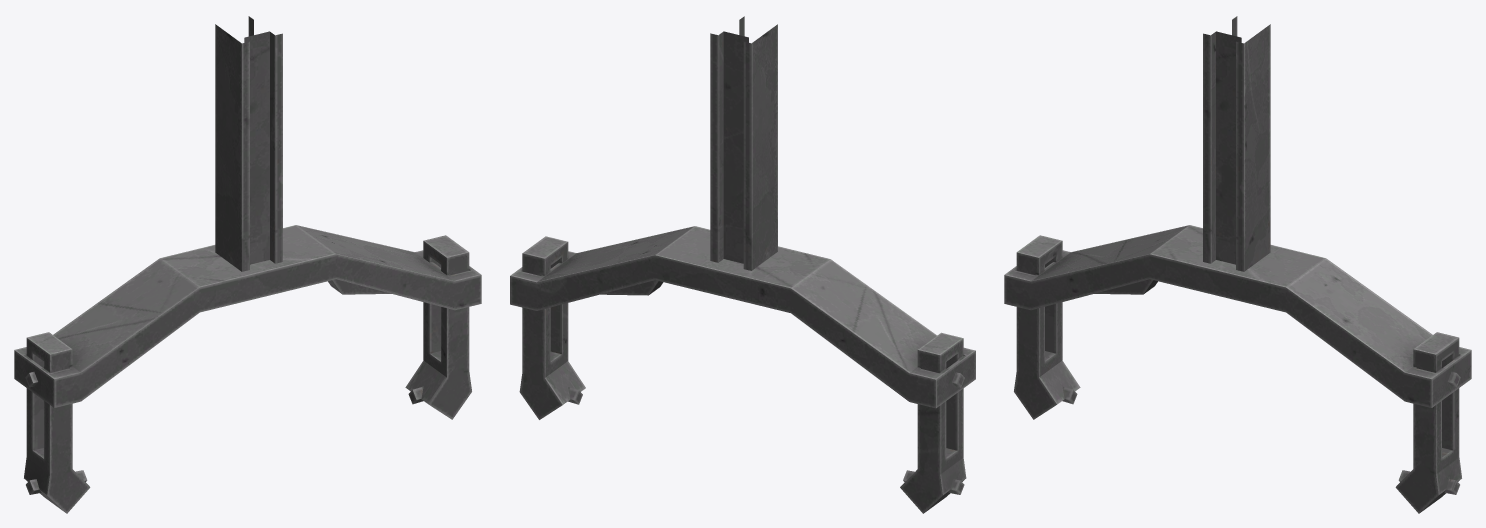
Rendered from roller_to_conveyor_middle.glb.
3 views of the same model, side by side, from view 1: azimuth 30°, elevation 25°; view 2: azimuth 150°, elevation 25°; view 3: azimuth 330°, elevation 25° (orthographic).
Parts seen in each view (by area): view 1: roller_to_conveyor_middle (×2); view 2: roller_to_conveyor_middle (×2); view 3: roller_to_conveyor_middle (×2).
Part boxes in pixels (box(x1,y1,x2,y2)): roller_to_conveyor_middle (×2): box(14, 16, 481, 513); roller_to_conveyor_middle (×2): box(510, 16, 975, 513); roller_to_conveyor_middle (×2): box(1004, 16, 1471, 513).
Bounding box in the file's own units: 1.07 × 1.01 × 0.1697.
Materials: 1 (1 with a texture image).
